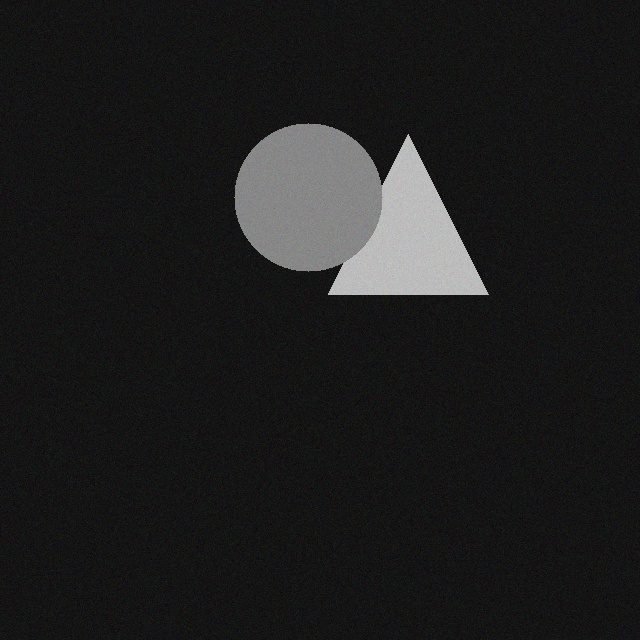circle: (235, 129, 383, 277)
triangle: (329, 140, 489, 300)
